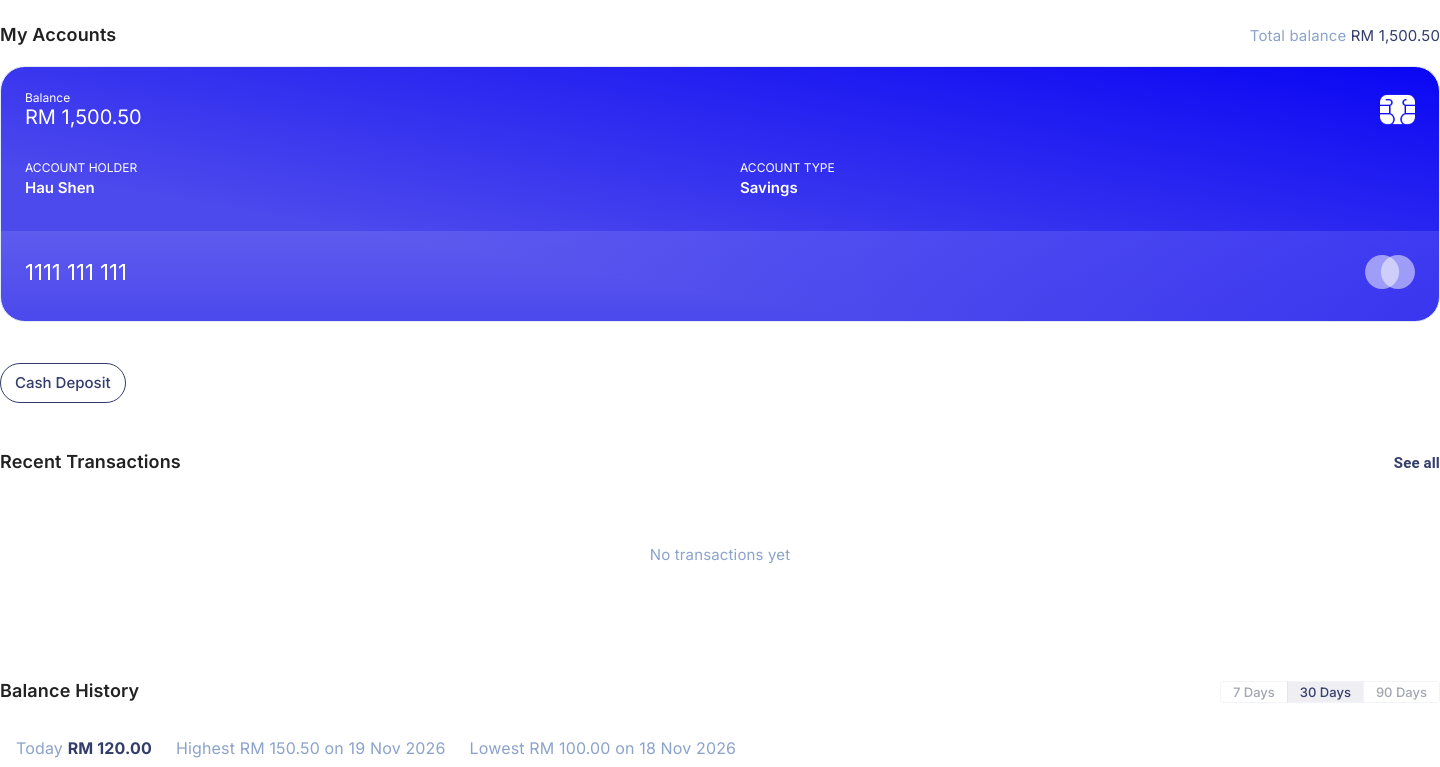
Scenario: cash deposit › asks the user to check the balance instead of retrying after a network error
Click the button "Cash deposit". click: (63, 383)
box: [0,363,126,403]
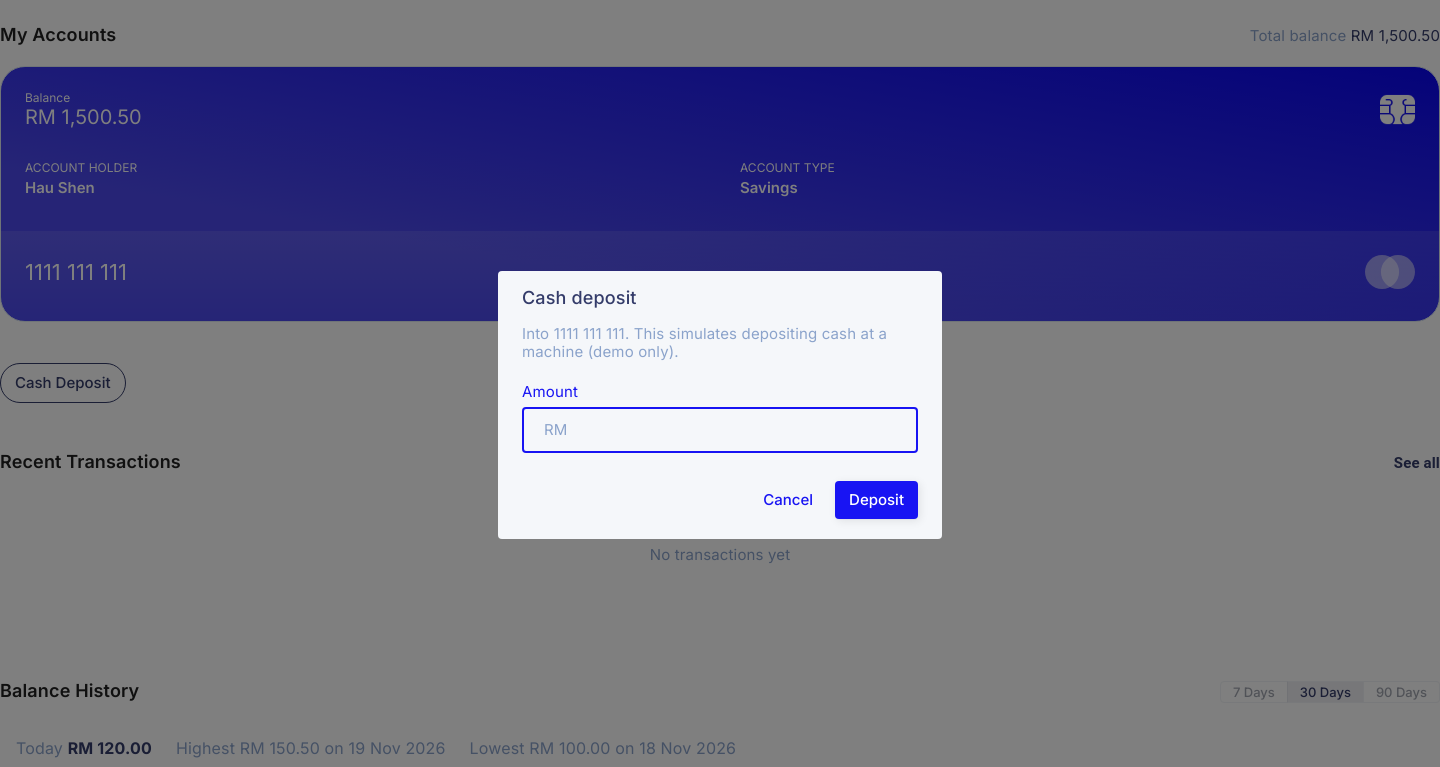
Type "50" into the field labelled "Amount". click: (745, 430)
box: [572,407,918,453]
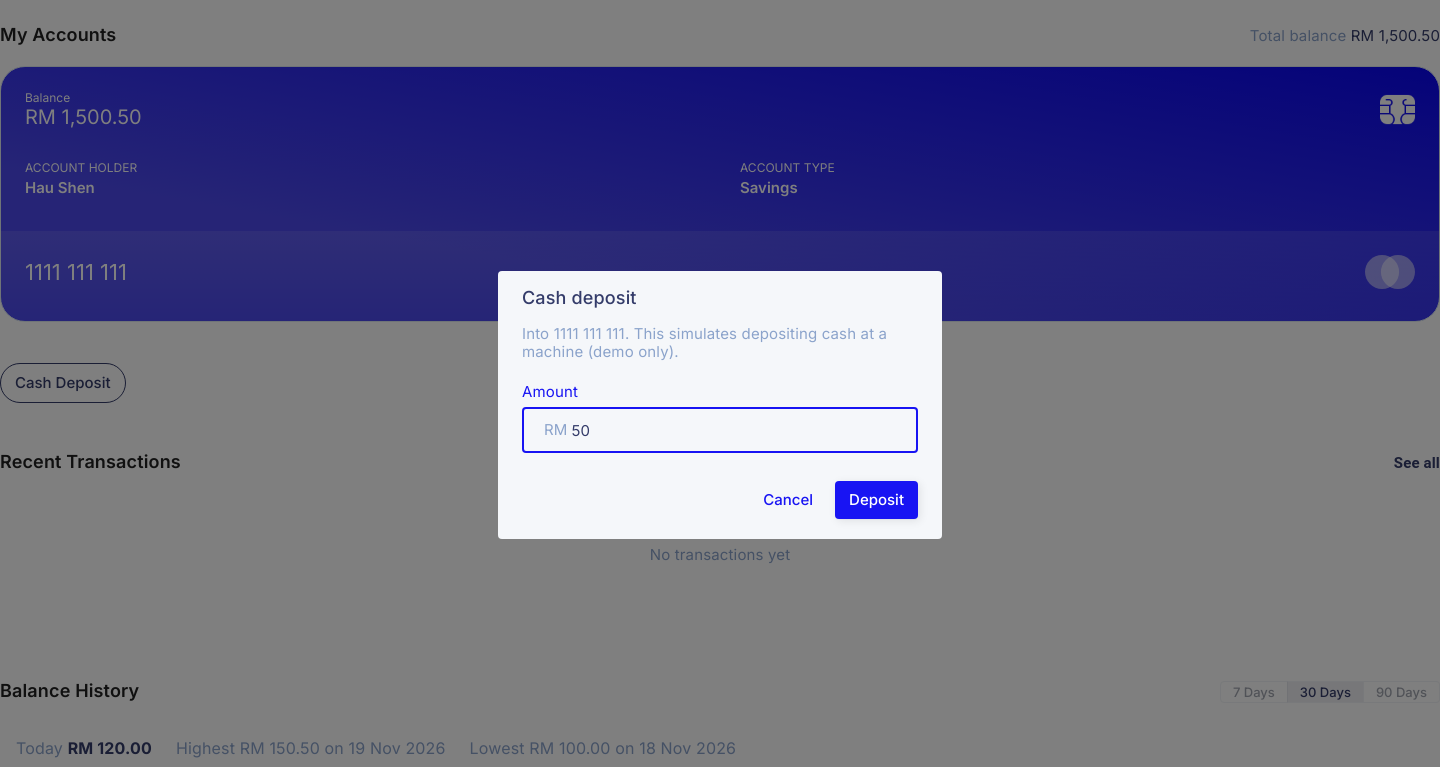
Click the button "Deposit". click: (877, 500)
box: [835,481,918,519]
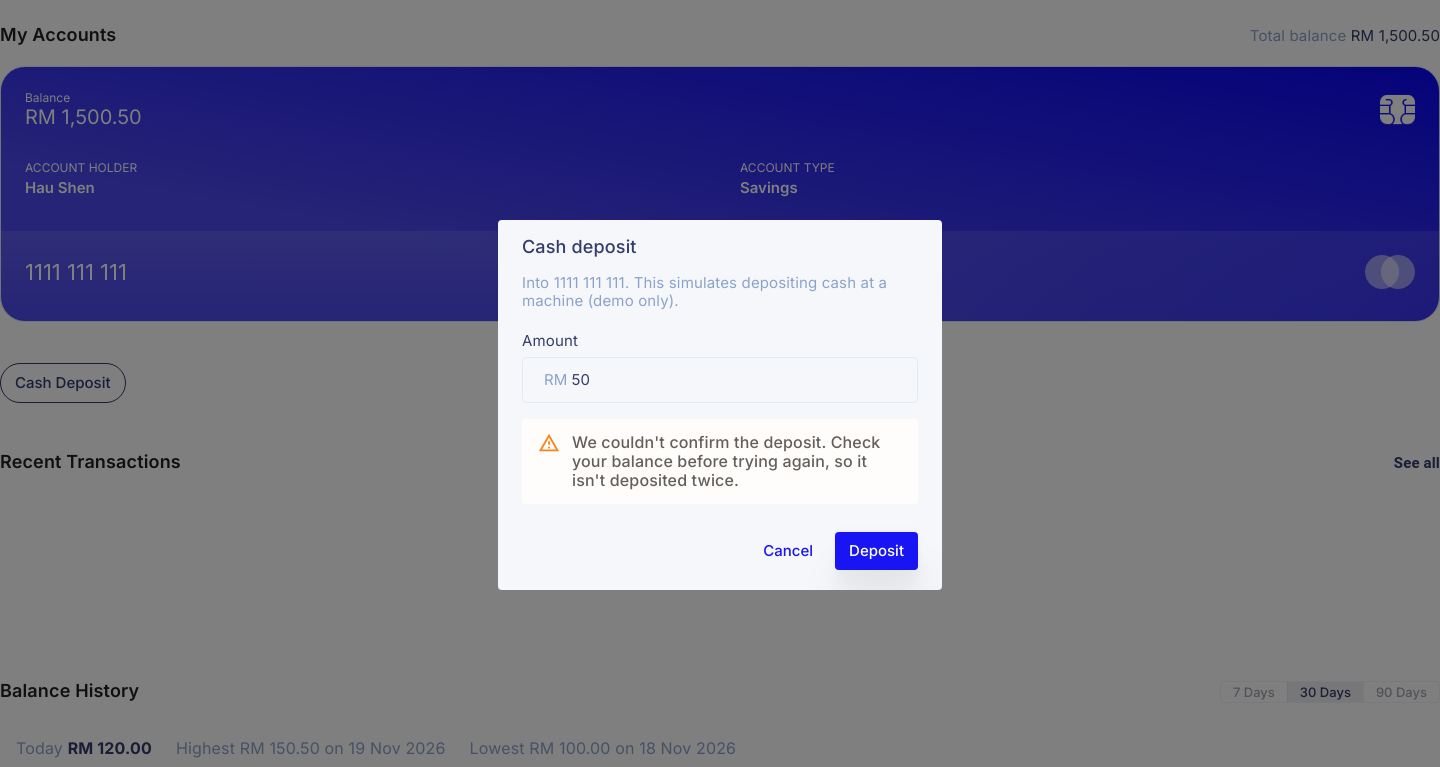
Expected: the text "Check your balance before trying again" is shown, [572,432,880,490]
